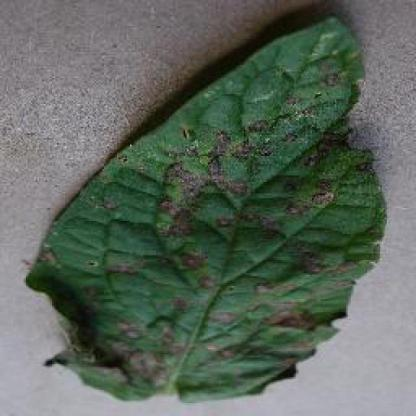Tomato_Blight: (27, 18, 381, 398)
